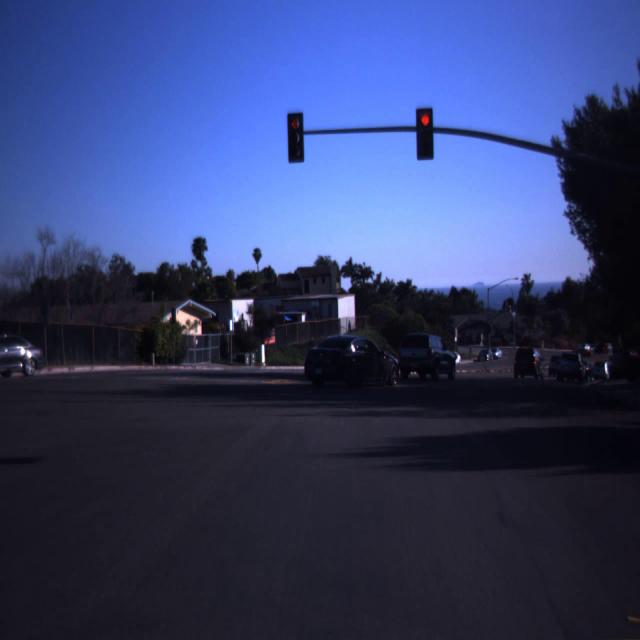kirmizi: (416, 108, 434, 160), (288, 113, 304, 163)
